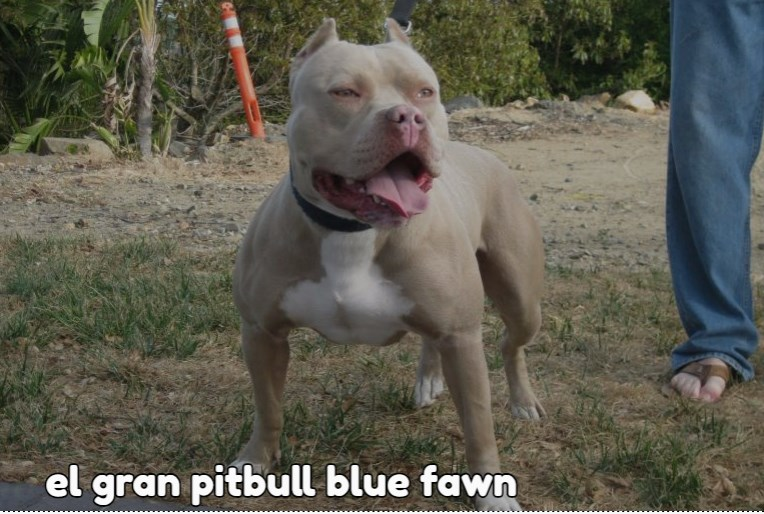Perro Pitbull: (246, 16, 508, 378)
